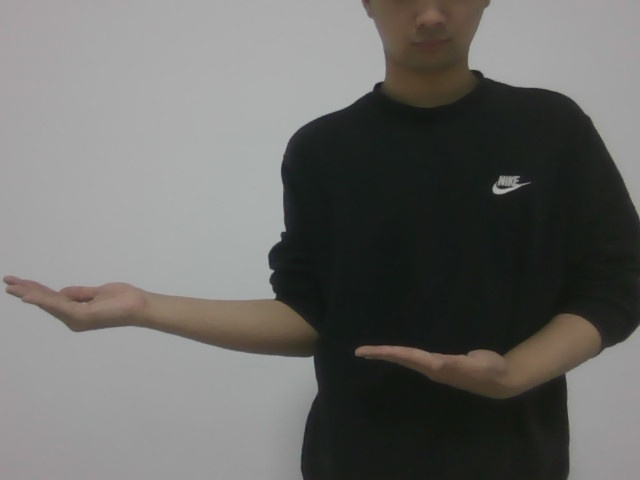please: (2, 264, 515, 413)
